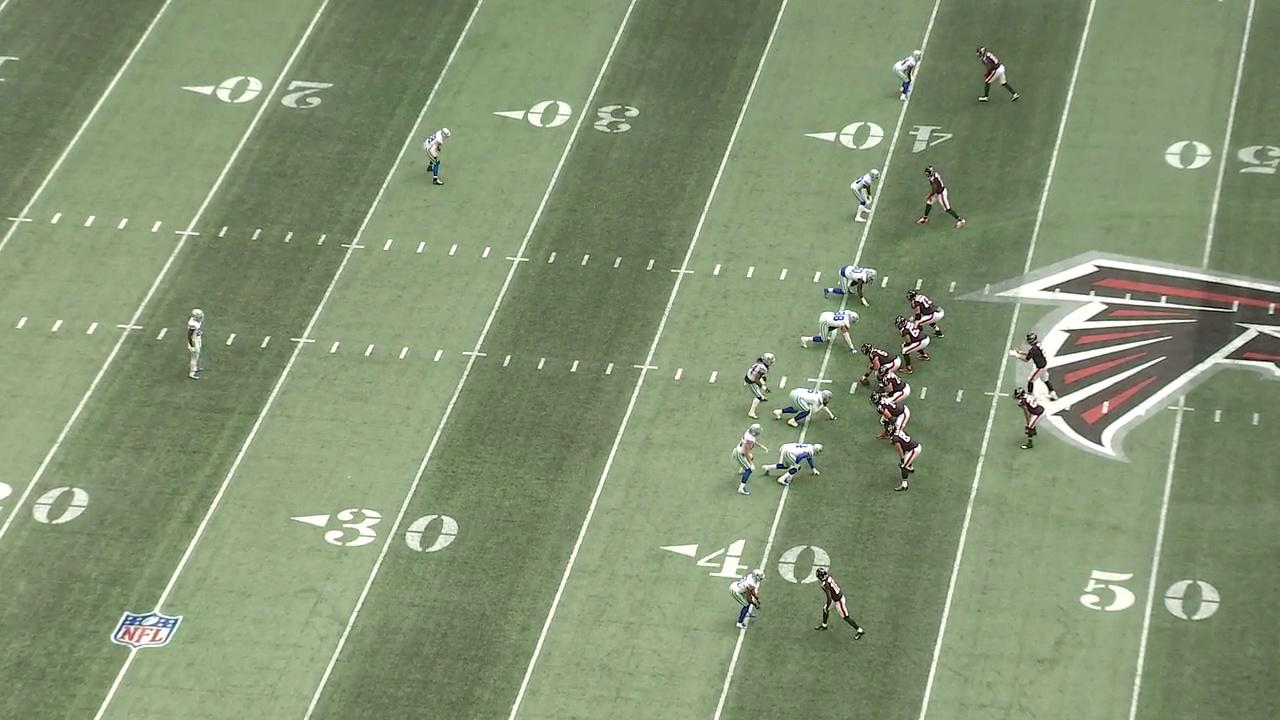player: (813, 565, 866, 643), (1008, 330, 1059, 405), (914, 164, 967, 230), (761, 440, 827, 489), (728, 422, 770, 498), (798, 308, 863, 356), (974, 44, 1023, 104), (882, 423, 924, 492), (773, 385, 840, 428), (822, 263, 882, 310), (728, 567, 768, 632), (743, 351, 779, 422), (1010, 386, 1047, 452), (857, 340, 904, 391), (893, 315, 932, 376), (420, 124, 456, 188), (905, 288, 946, 343), (868, 390, 912, 441), (848, 165, 884, 225), (890, 46, 926, 104), (184, 305, 208, 383), (875, 365, 912, 405)
